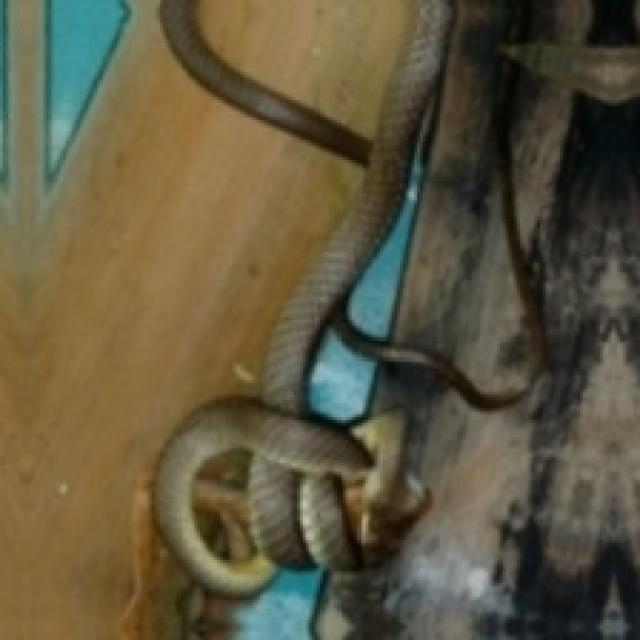paradise tree snake: (154, 0, 600, 591)
